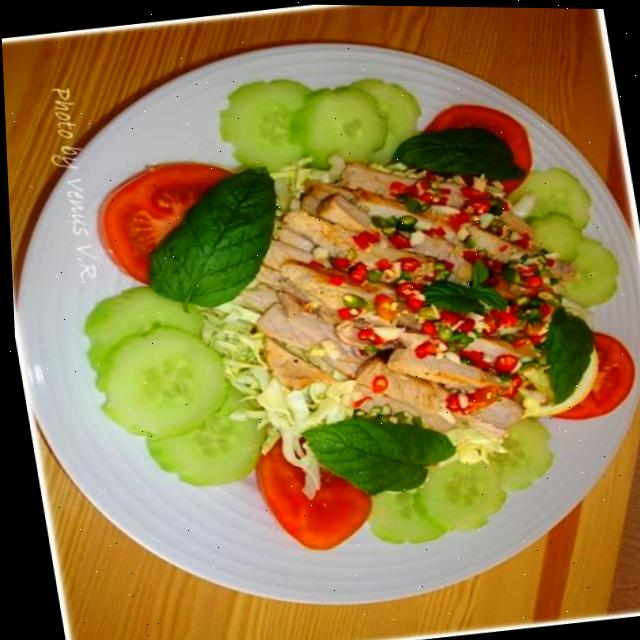猪肉菜式: (0, 12, 640, 624)
